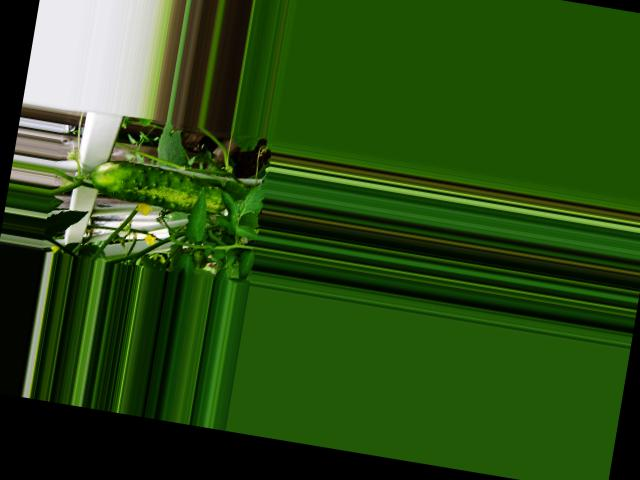cucumber: (88, 156, 229, 217)
